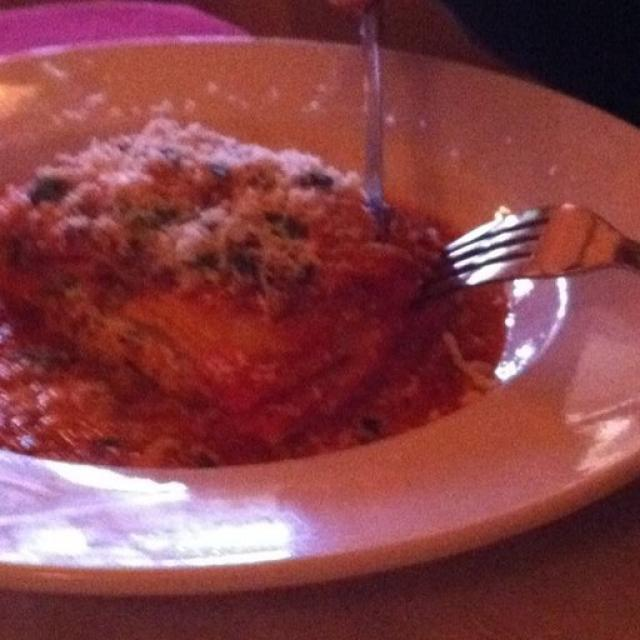Lasagna: (6, 120, 415, 432)
